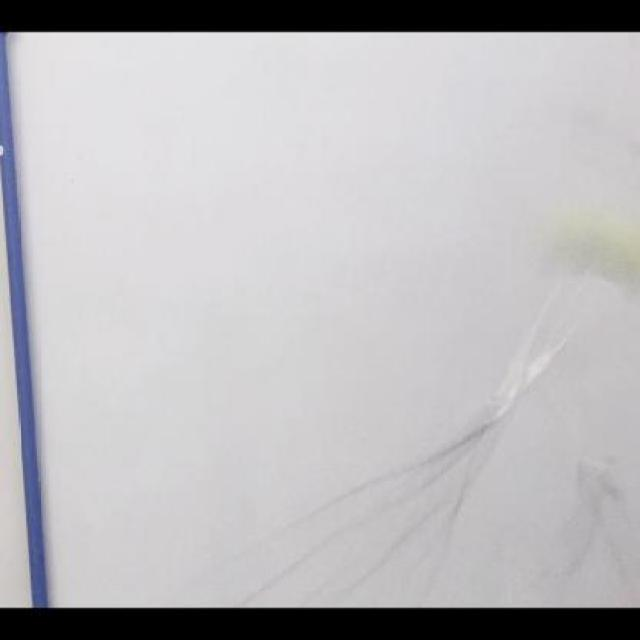baseball: (553, 192, 638, 292)
